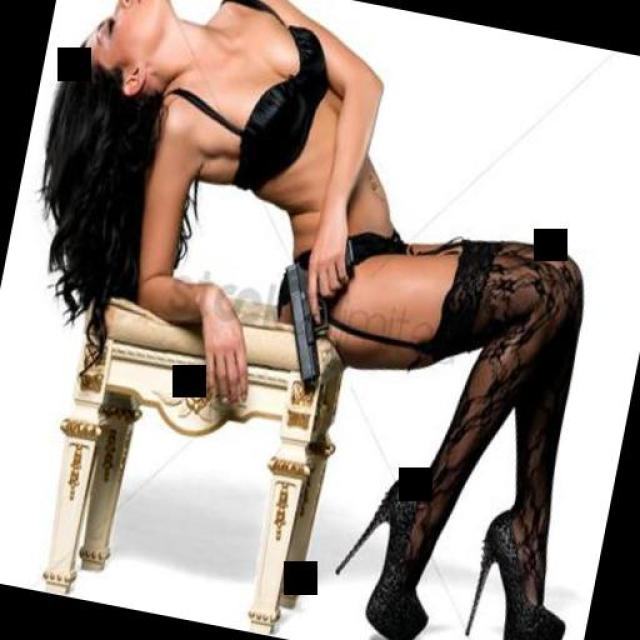gun: (260, 221, 368, 385)
